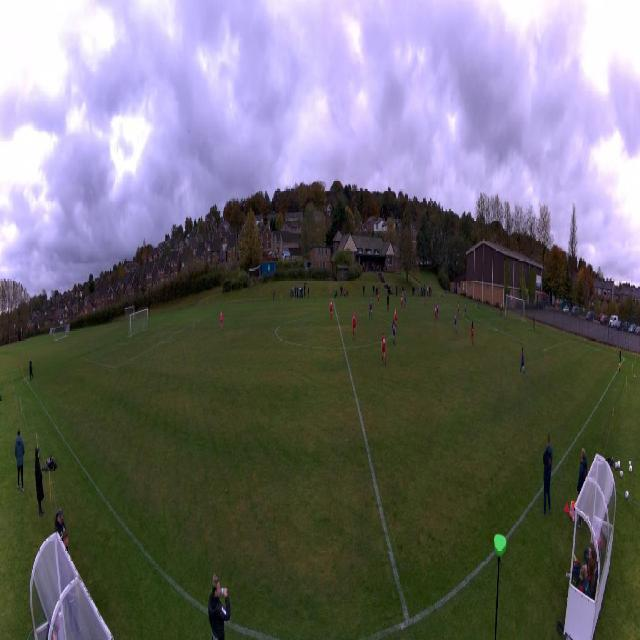ball: (475, 306, 476, 308)
player: (381, 332, 387, 366), (520, 347, 526, 377), (352, 311, 358, 340), (392, 320, 397, 346), (369, 298, 373, 319), (329, 299, 333, 320), (394, 308, 398, 329), (471, 322, 474, 346), (454, 312, 457, 334), (220, 310, 223, 331), (436, 302, 439, 321), (400, 295, 403, 313), (386, 293, 389, 311), (434, 305, 437, 323), (457, 301, 460, 318), (464, 302, 467, 318), (404, 290, 406, 308), (533, 316, 535, 332), (500, 302, 502, 318), (378, 292, 380, 307), (425, 294, 427, 306), (478, 297, 480, 309)
